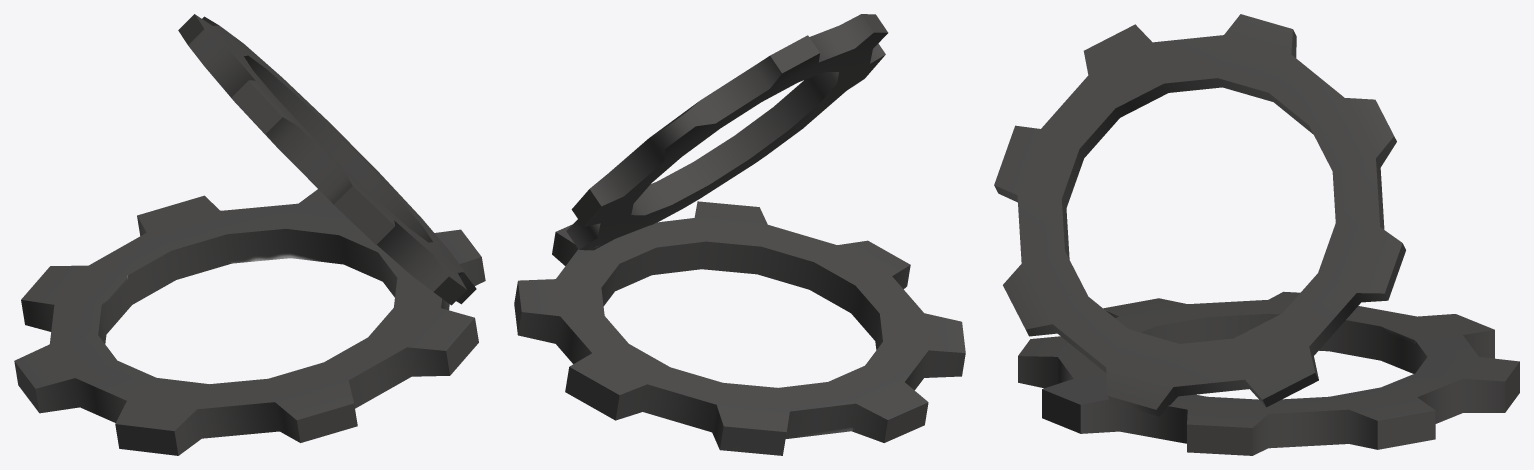
File: engranaje.fbx
3 views of the same model, side by side, from view 1: azimuth 30°, elevation 25°; view 2: azimuth 150°, elevation 25°; view 3: azimuth 270°, elevation 25° (orthographic). The views are drawn at different scales.
Parts seen in each view (by area): view 1: Engranajes; view 2: Engranajes; view 3: Engranajes.
Boxes of the visible parts, x1=… form: Engranajes: x1=14, y1=14, x2=485, y2=455; Engranajes: x1=514, y1=14, x2=965, y2=455; Engranajes: x1=994, y1=14, x2=1519, y2=455.
Size of the model in its own units: 49.09 by 41.18 by 51.65.
